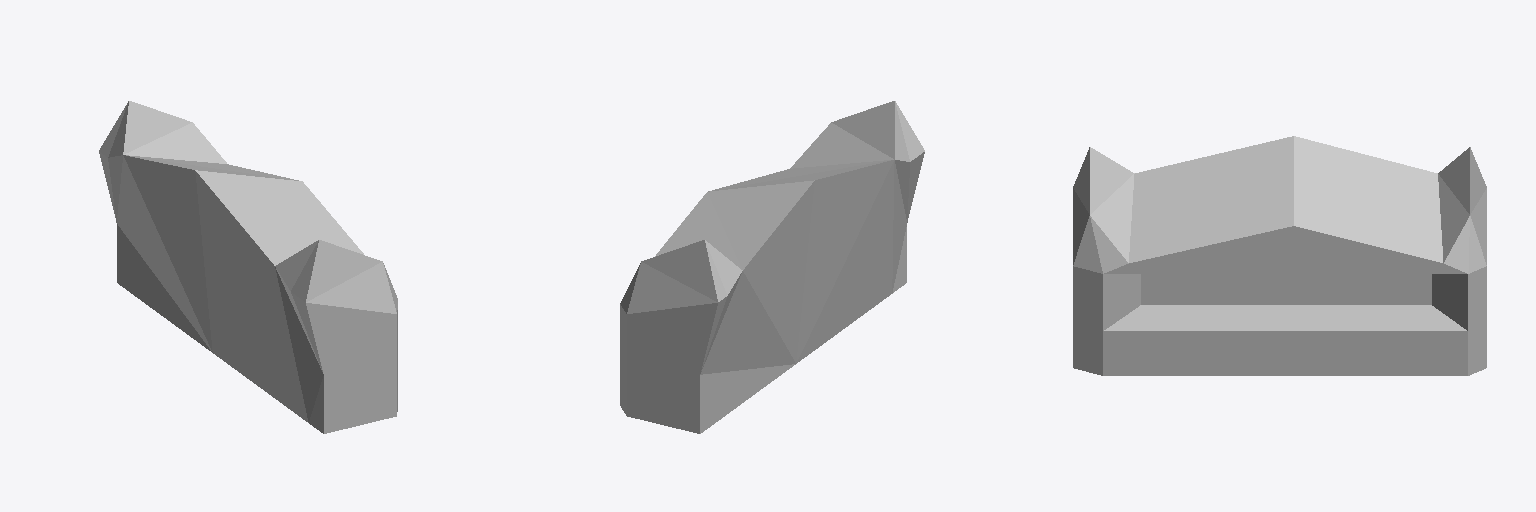
The model's file is static_forward_1.obj.
3 renders of one model, left to right at view 1: azimuth 30°, elevation 25°; view 2: azimuth 150°, elevation 25°; view 3: azimuth 270°, elevation 25°, orthographic.
Parts seen in each view (by area): view 1: Cube_Cube.005; view 2: Cube_Cube.005; view 3: Cube_Cube.005.
Boxes of the visible parts, box(x1,y1,x2,y2) form: Cube_Cube.005: box(99, 101, 397, 433); Cube_Cube.005: box(620, 101, 924, 433); Cube_Cube.005: box(1073, 136, 1486, 375).
Bounding box in the file's own units: 3 × 5 × 10.